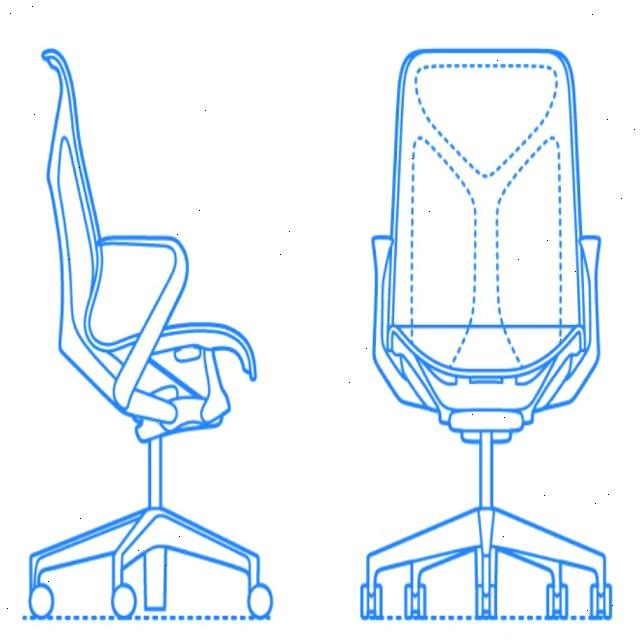5_Star_Base: (353, 494, 617, 626), (23, 498, 278, 624)
Armrest: (88, 226, 196, 422), (366, 230, 436, 414), (536, 230, 604, 413)
Backrest: (383, 39, 590, 385), (32, 36, 122, 407)
Base: (128, 343, 233, 509), (426, 383, 546, 449)
Seat: (382, 319, 588, 390), (76, 312, 262, 390), (242, 577, 277, 624), (24, 577, 59, 624), (107, 578, 142, 625), (469, 580, 504, 627), (538, 579, 573, 626), (583, 579, 618, 626), (399, 578, 433, 625), (355, 577, 389, 624)
